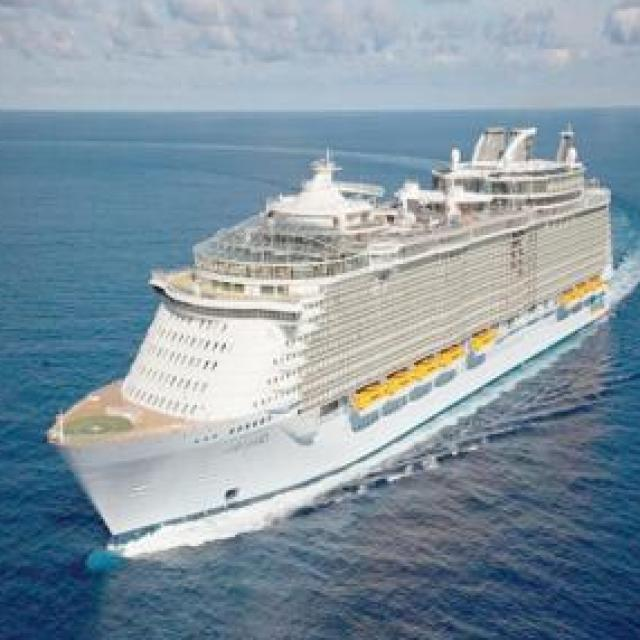passenger ship: (45, 115, 623, 550)
